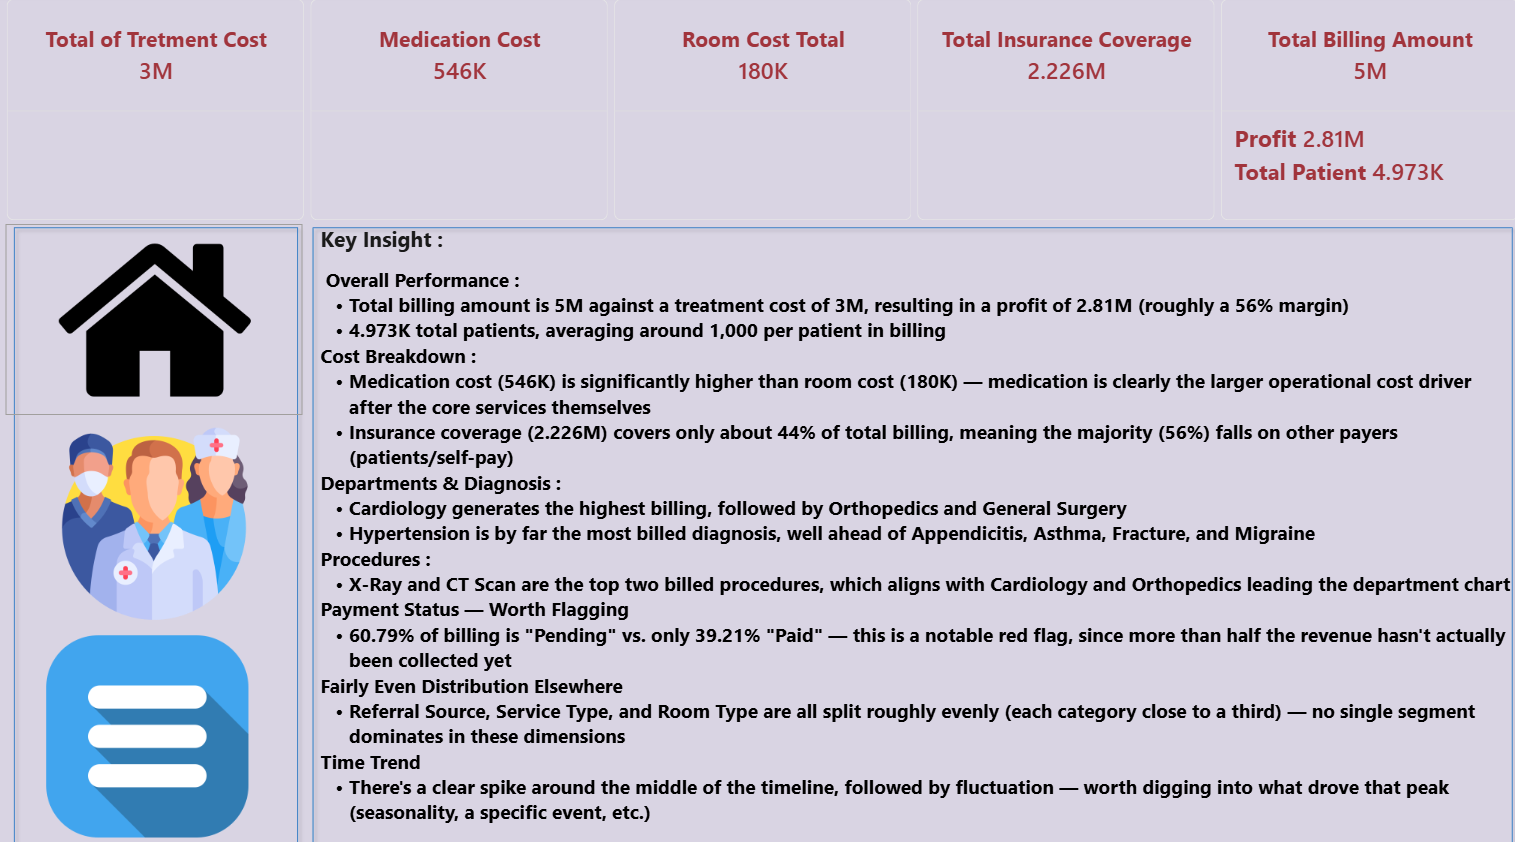

The dashboard page shown, as its layout file describes it:
{"tool":"powerbi","page":{"name":"More Details","canvas":[1920,1080],"ordinal":2},"visuals":[{"type":"shape","box":[10.8,279.2,376.6,800.7],"z":0},{"type":"image","box":[8.7,283.2,376.6,242.4],"z":1000},{"type":"image","box":[8.7,540.7,376.6,242.4],"z":2000},{"type":"image","box":[8.7,824.5,376.6,255.4],"z":3000},{"type":"cardVisual","fields":{"Data":["Table Measure.Total of Tretment Cost","Table Measure.Medication Cost","Table Measure.Room Cost Total","Table Measure.Total Insurance Coverage","Table Measure.Total Billing Amount"]},"box":[10.8,0,1908.8,279.2],"z":4000},{"type":"shape","box":[387.4,279.2,1532,801],"z":5000},{"type":"textbox","box":[406.9,283.5,1512.7,796.4],"z":6000}]}

Visuals, with their boxes in screenshot pixels (x1, y1, x2, y2), scaled from the page's 1920x1080 canvas onto the 1515x842 screenshot:
shape: BBox(9, 218, 306, 841)
image: BBox(7, 221, 304, 410)
image: BBox(7, 422, 304, 611)
image: BBox(7, 643, 304, 841)
cardVisual - Table Measure.Total of Tretment Cost x Table Measure.Medication Cost: BBox(9, 0, 1514, 218)
shape: BBox(306, 218, 1514, 841)
textbox: BBox(321, 221, 1514, 841)
